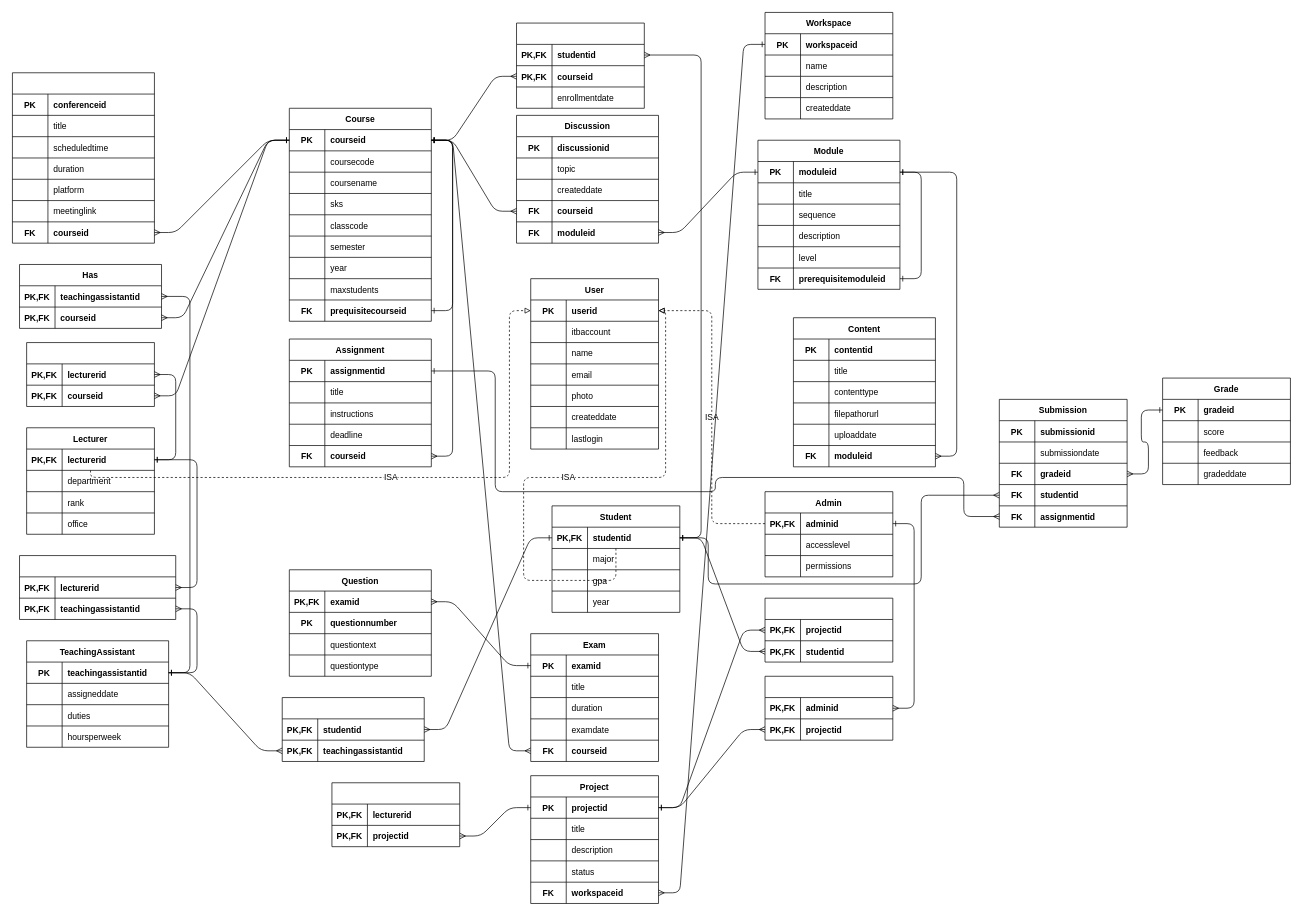
The diagram is 1303 pixels wide and 916 high, and some of its shapes have lost their labels. Each missing label, with the box of its shape:
Administers: (764, 676, 893, 740)
Assists: (282, 697, 424, 761)
Enrolls: (516, 22, 644, 108)
Manages: (331, 782, 460, 847)
Participates: (764, 597, 893, 662)
Supervises: (19, 555, 176, 619)
Teaches: (26, 342, 154, 406)
VideoConference: (12, 72, 154, 243)
